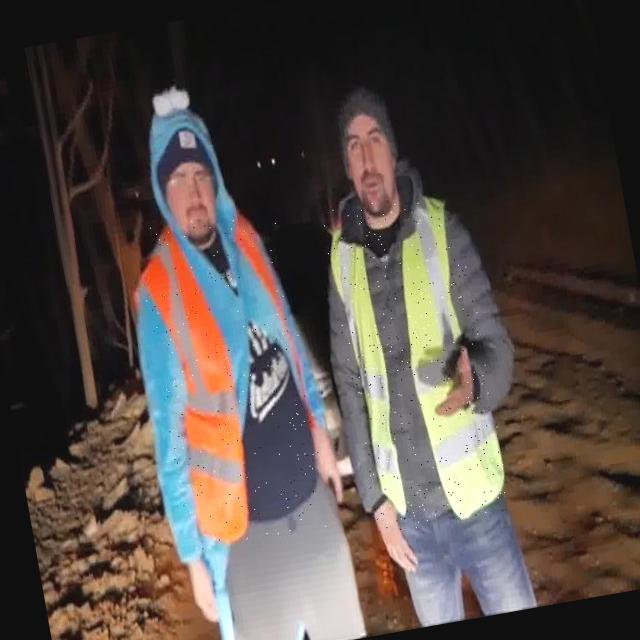no-gloves: (161, 501, 256, 640), (278, 382, 364, 514), (353, 464, 435, 578), (422, 329, 498, 432)
no-helmet: (125, 88, 262, 265), (308, 66, 428, 248)
vest: (132, 201, 334, 555), (319, 188, 512, 534)
